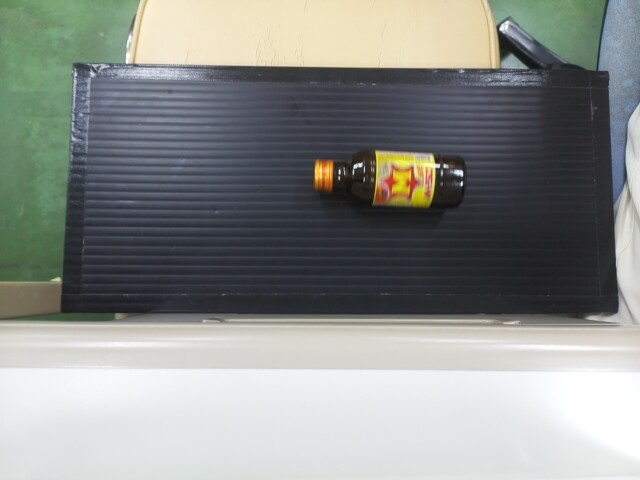glass_bottle: (310, 147, 465, 207)
